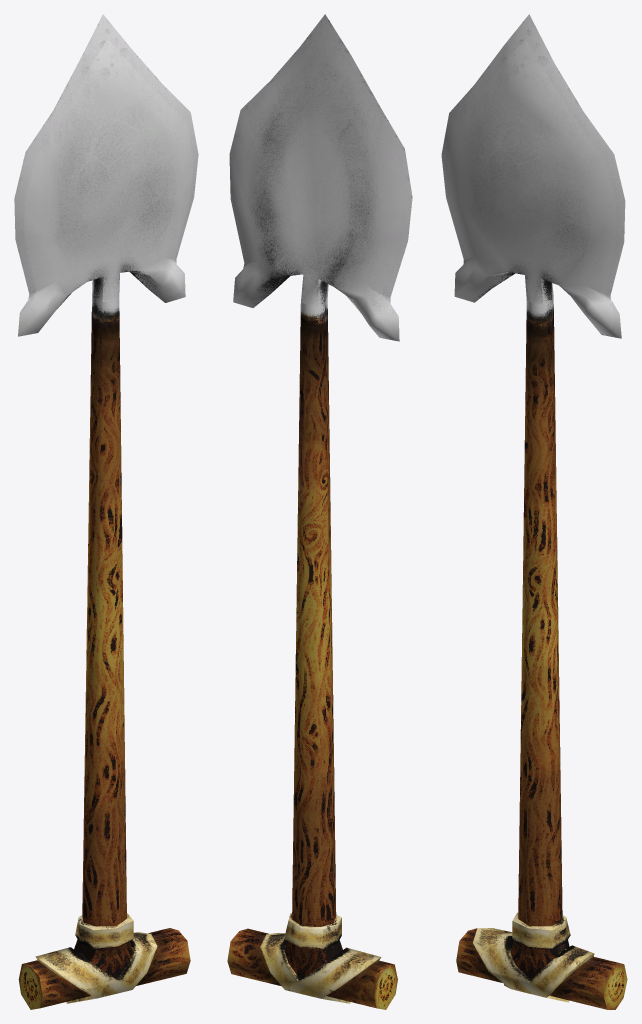
Rendered from PlantFiberShovel.glb.
The picture shows the model from 3 angles, left to right: view 1: azimuth 30°, elevation 25°; view 2: azimuth 150°, elevation 25°; view 3: azimuth 330°, elevation 25°; orthographic projection.
Parts seen in each view (by area): view 1: StoneSpade; view 2: StoneSpade; view 3: StoneSpade.
Part boxes in pixels (<box>): StoneSpade: <box>14,14,198,1009</box>; StoneSpade: <box>227,14,412,1009</box>; StoneSpade: <box>441,14,627,1009</box>.
Bounding box in the file's own units: 0.2343 × 1.2 × 0.0673.
1 material, 1 textured.
